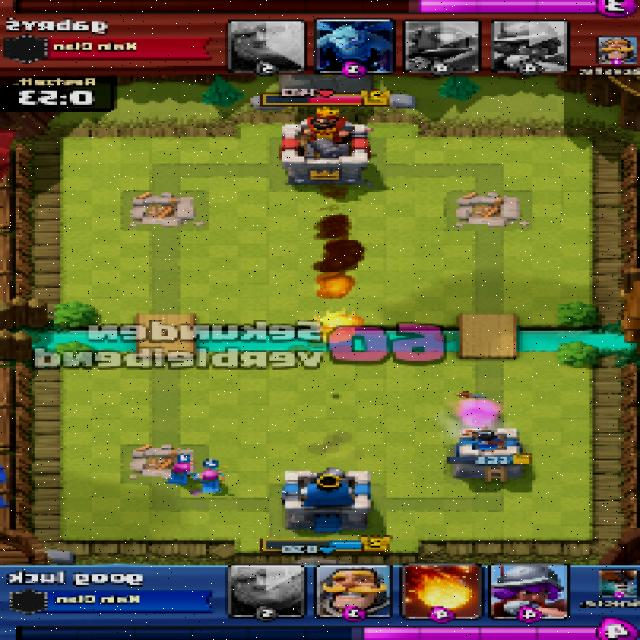Enemy-Fireball: (316, 310, 367, 343)
Player-Archer: (194, 467, 230, 494), (167, 459, 194, 486)
